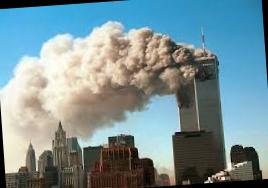Smoke: (0, 11, 208, 152)
